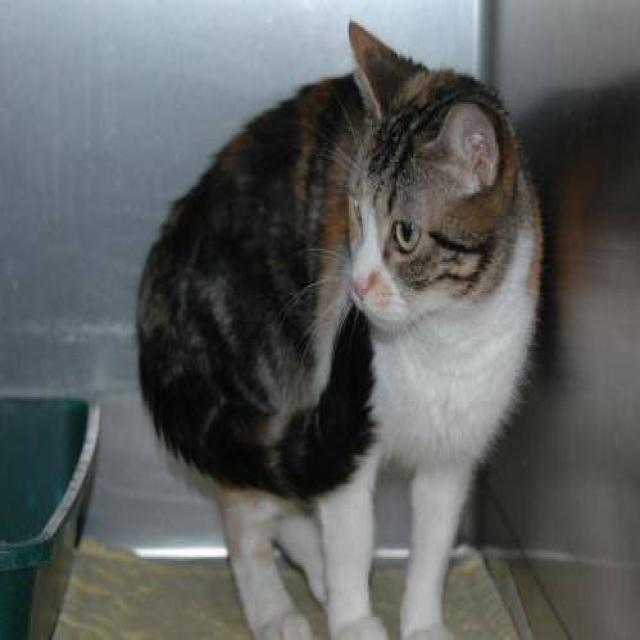cat: (135, 17, 545, 638)
